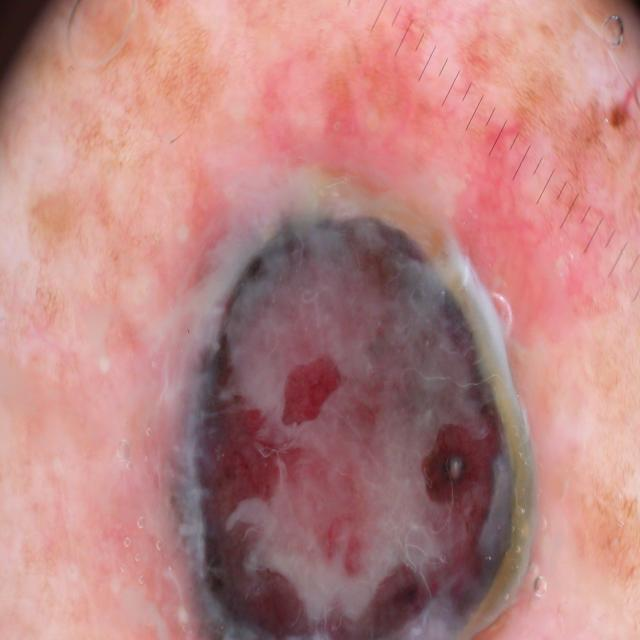Melanoma: (141, 198, 586, 640)
